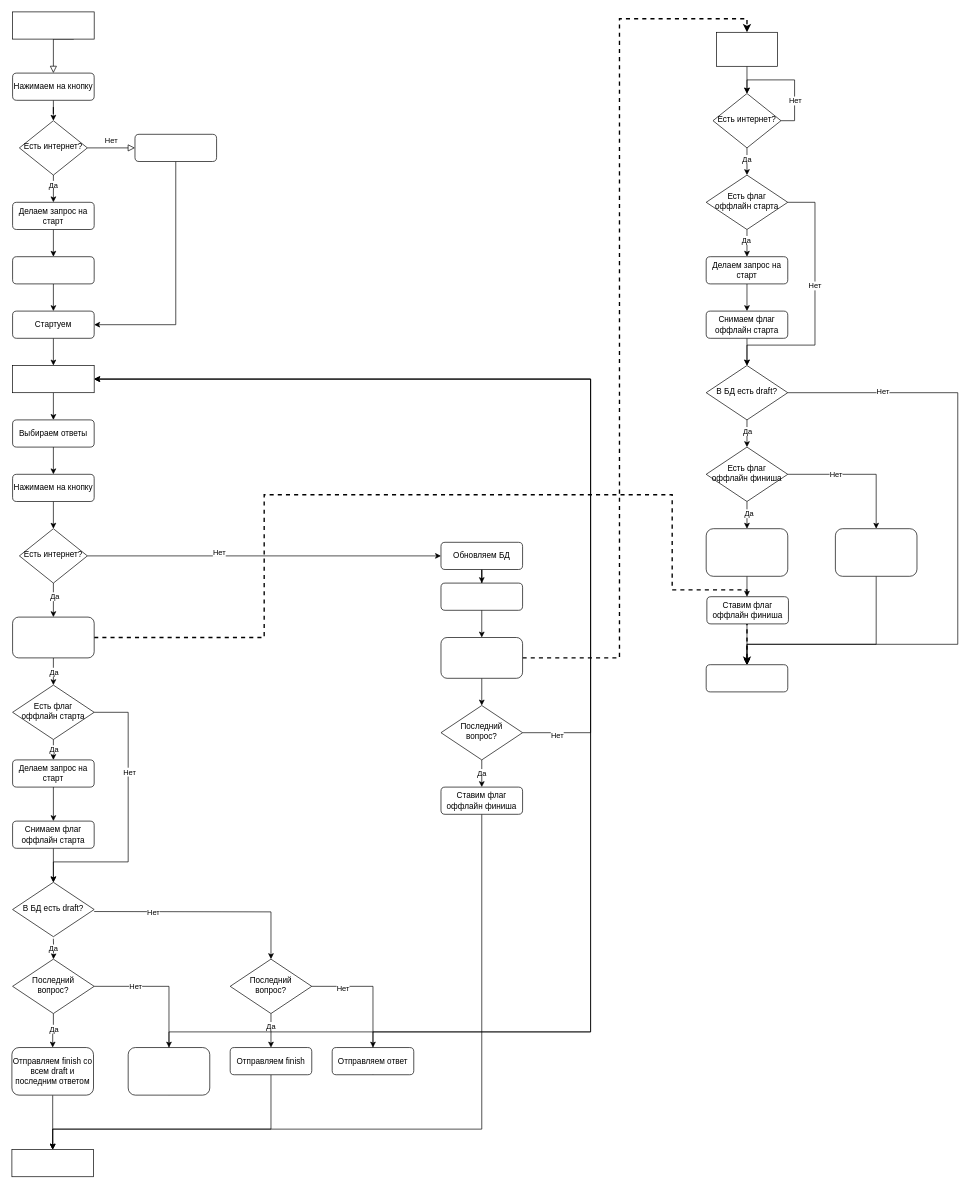
Some shapes in this 975 by 1189 pixel diagram are drawn without their labels. Each missing label, with the centre of its shape:
Завершаем работу слушателя: [747,678]
Запускаем слушатель появления интернета: [481,657]
Отключаем слушатель появления интернета: [53,637]
Отправляем finish со всеми draft: [747,552]
Отправляем все draft: [876,552]
Отправляем все draft и с новым ответом: [169,1071]
Подгружаем актуальные данные: [53,270]
Помечаем вопрос как Draft: [481,596]
Слушатель появления интернета: [747,49]
Ставим флаг, что старт без интернета: [175,148]
Экран вопроса: [53,379]
Экран детальной информации: [53,25]
Экран результата: [52,1163]
